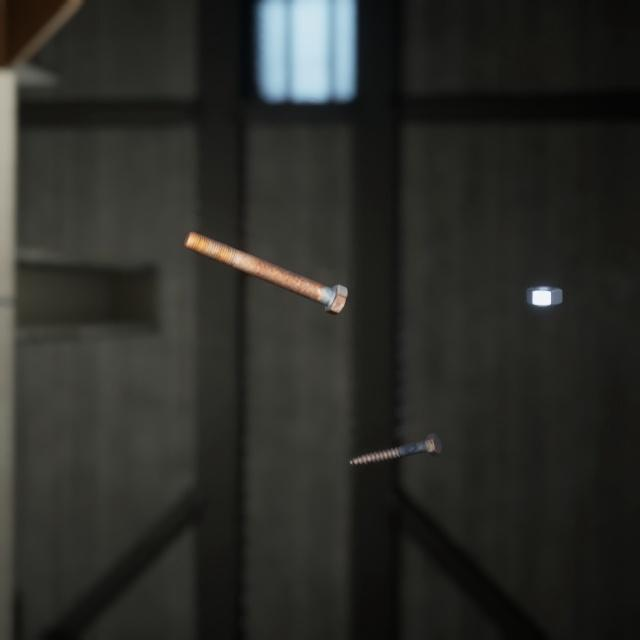bolt: (179, 209, 352, 302), (345, 408, 446, 449)
nut: (522, 264, 566, 293)
